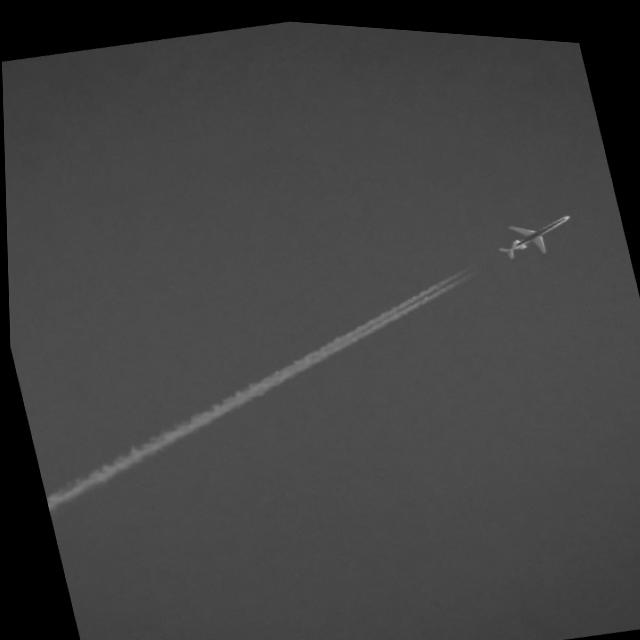aeroplane: (486, 196, 586, 261)
